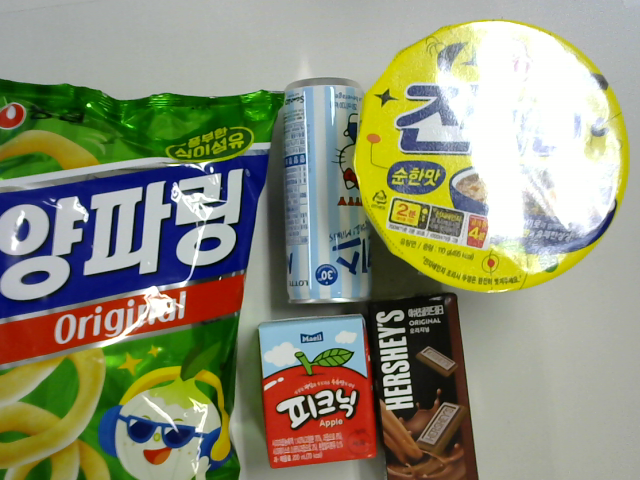Hush_Choco_Drink: (356, 288, 477, 480)
Jinlamyeon_Mild_Taste_Large_Cup: (341, 20, 633, 301)
Milkies_250ml: (273, 65, 385, 318)
Oninon_Ring: (1, 79, 289, 477)
Picnic_Apple: (251, 303, 383, 480)
